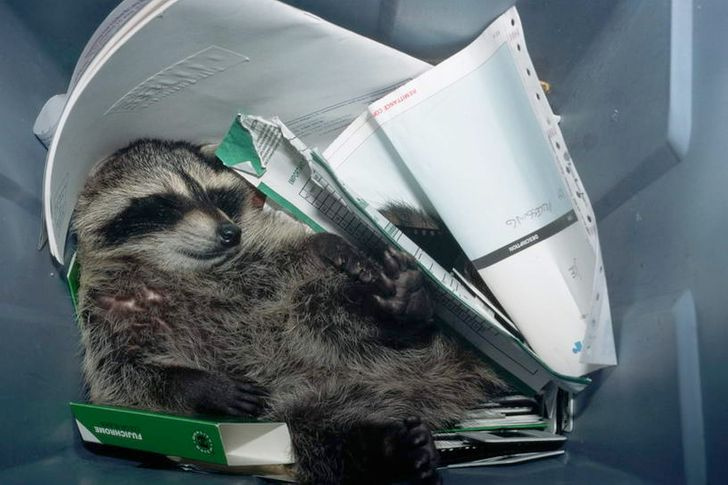raccoon: (81, 141, 484, 433)
